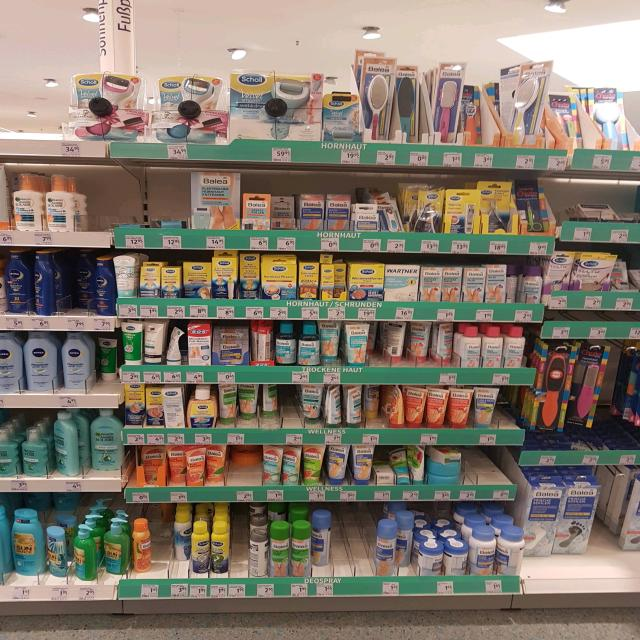void: (2, 73, 60, 138), (337, 506, 371, 576), (88, 174, 114, 232), (468, 450, 502, 484)
